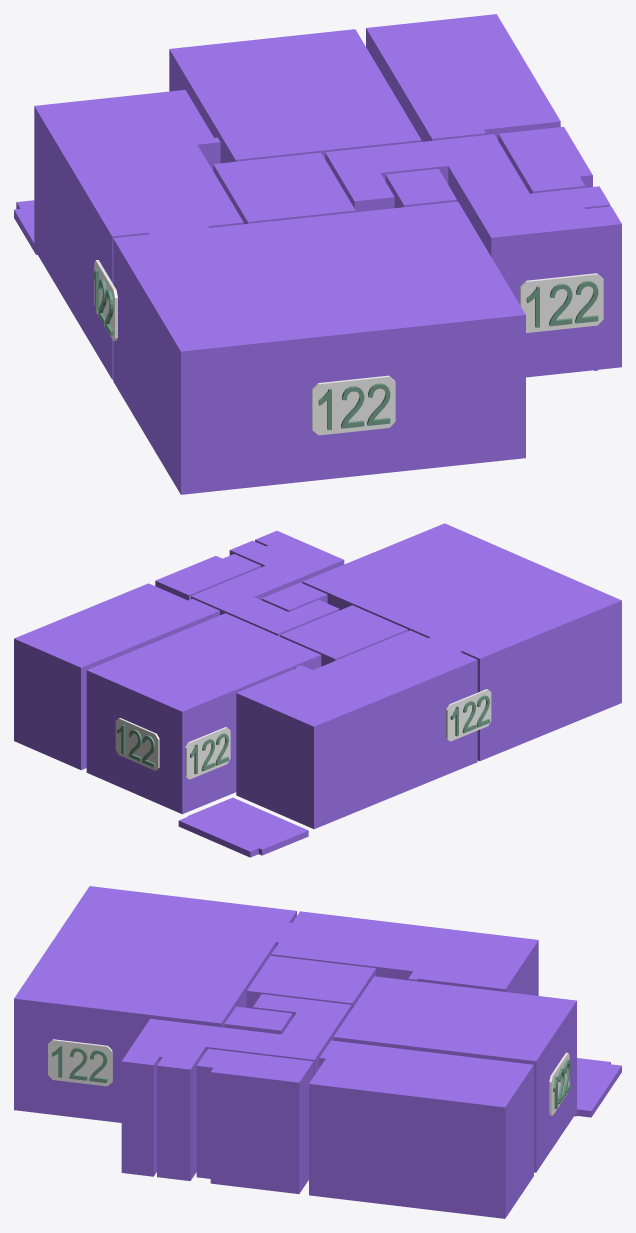
3 renders of one model, top to bottom at view 1: azimuth 30°, elevation 25°; view 2: azimuth 150°, elevation 25°; view 3: azimuth 270°, elevation 25°, orthographic. The views are drawn at different scales.
Parts seen in each view (by area): view 1: g_1, g_0, g_7, g_3, g_4, g_2, g_5, g_28, g_24, g_6, g_20, g_8; view 2: g_1, g_0, g_3, g_4, g_7, g_8, g_2, g_5, g_32, g_12, g_20, g_6; view 3: g_1, g_4, g_3, g_7, g_5, g_0, g_2, g_16, g_8, g_6, g_32.
Part boxes in pixels (<box>): g_1: <box>113,201,525,494</box>; g_0: <box>34,89,243,379</box>; g_7: <box>325,134,621,377</box>; g_3: <box>169,29,421,163</box>; g_4: <box>366,14,560,141</box>; g_2: <box>213,152,355,224</box>; g_5: <box>498,126,592,193</box>; g_28: <box>312,375,395,435</box>; g_24: <box>520,273,603,332</box>; g_6: <box>385,168,456,207</box>; g_20: <box>94,260,117,340</box>; g_8: <box>14,200,37,254</box>; g_1: <box>302,523,621,760</box>; g_0: <box>236,630,477,828</box>; g_3: <box>86,613,321,814</box>; g_4: <box>14,583,219,770</box>; g_7: <box>191,531,344,636</box>; g_8: <box>178,797,308,857</box>; g_2: <box>280,605,407,666</box>; g_5: <box>155,554,261,600</box>; g_32: <box>115,718,159,770</box>; g_12: <box>185,727,230,779</box>; g_20: <box>446,689,491,741</box>; g_6: <box>261,582,327,611</box>; g_1: <box>14,886,296,1122</box>; g_4: <box>309,1040,533,1218</box>; g_3: <box>333,976,576,1172</box>; g_7: <box>121,994,351,1180</box>; g_5: <box>196,1048,313,1193</box>; g_0: <box>271,911,538,995</box>; g_2: <box>246,955,375,1009</box>; g_16: <box>48,1039,112,1086</box>; g_8: <box>574,1058,621,1117</box>; g_6: <box>224,1006,292,1034</box>; g_32: <box>549,1052,569,1115</box>.
Bounding box in the file's own units: 10.96 × 2.74 × 12.73.
